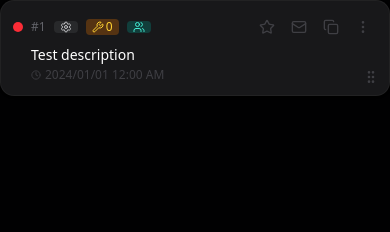
Scenario: TaskList › Overflow menu › shows Retry in overflow menu for failed tasks
What coordinates should you click on to do the following:
click the button titled "More actions"
I would click on:
 (363, 27)
Its box is 349,13 -> 377,41.
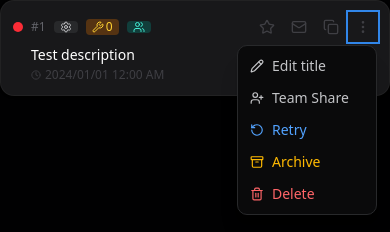
Result: the button "Retry" is shown at 238,114 -> 376,146
